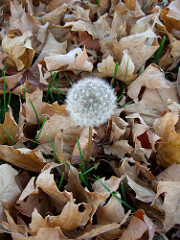dandelion: (53, 67, 129, 136)
